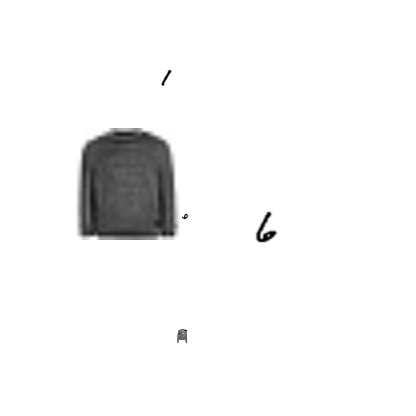1: (155, 66, 177, 88)
6: (244, 209, 286, 251), (176, 208, 190, 222)
Pullover: (70, 128, 182, 240), (175, 329, 189, 343)
